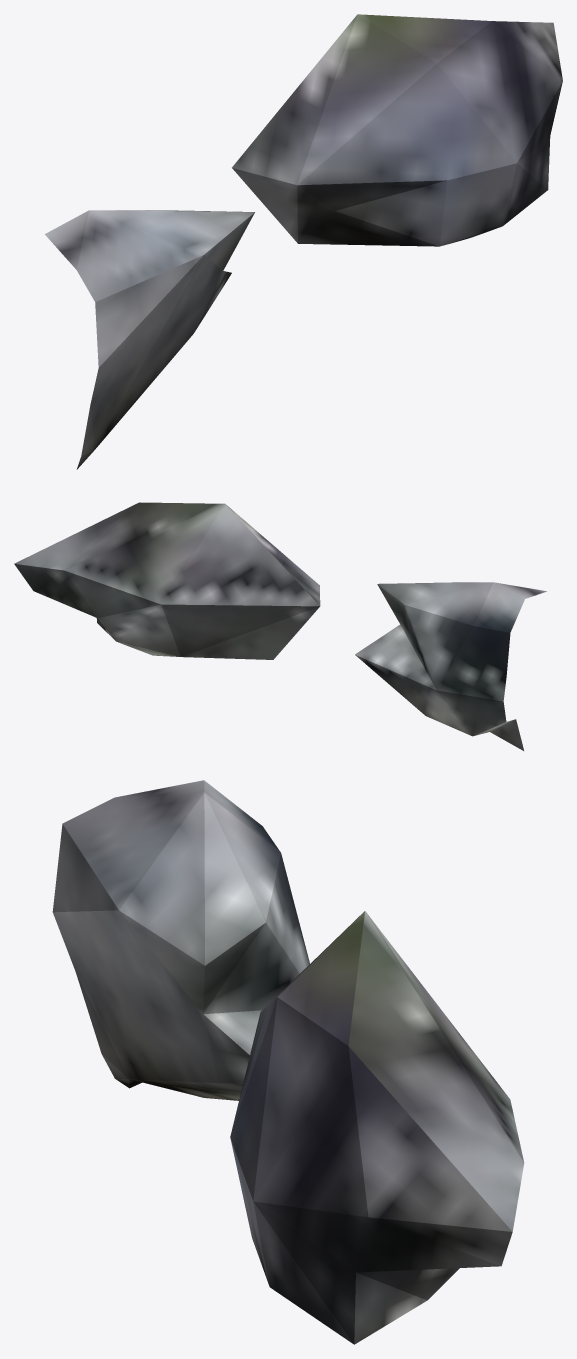
3 renders of one model, top to bottom at view 1: azimuth 30°, elevation 25°; view 2: azimuth 150°, elevation 25°; view 3: azimuth 270°, elevation 25°, orthographic. The views are drawn at different scales.
Size of the model in its own units: 0.1457 by 0.0691 by 0.0685.
Materials: 1 (1 with a texture image).
